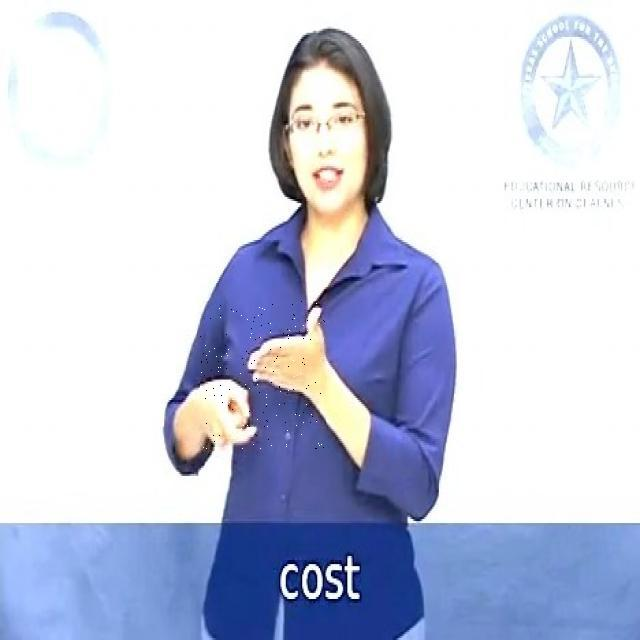cost: (200, 302, 326, 449)
